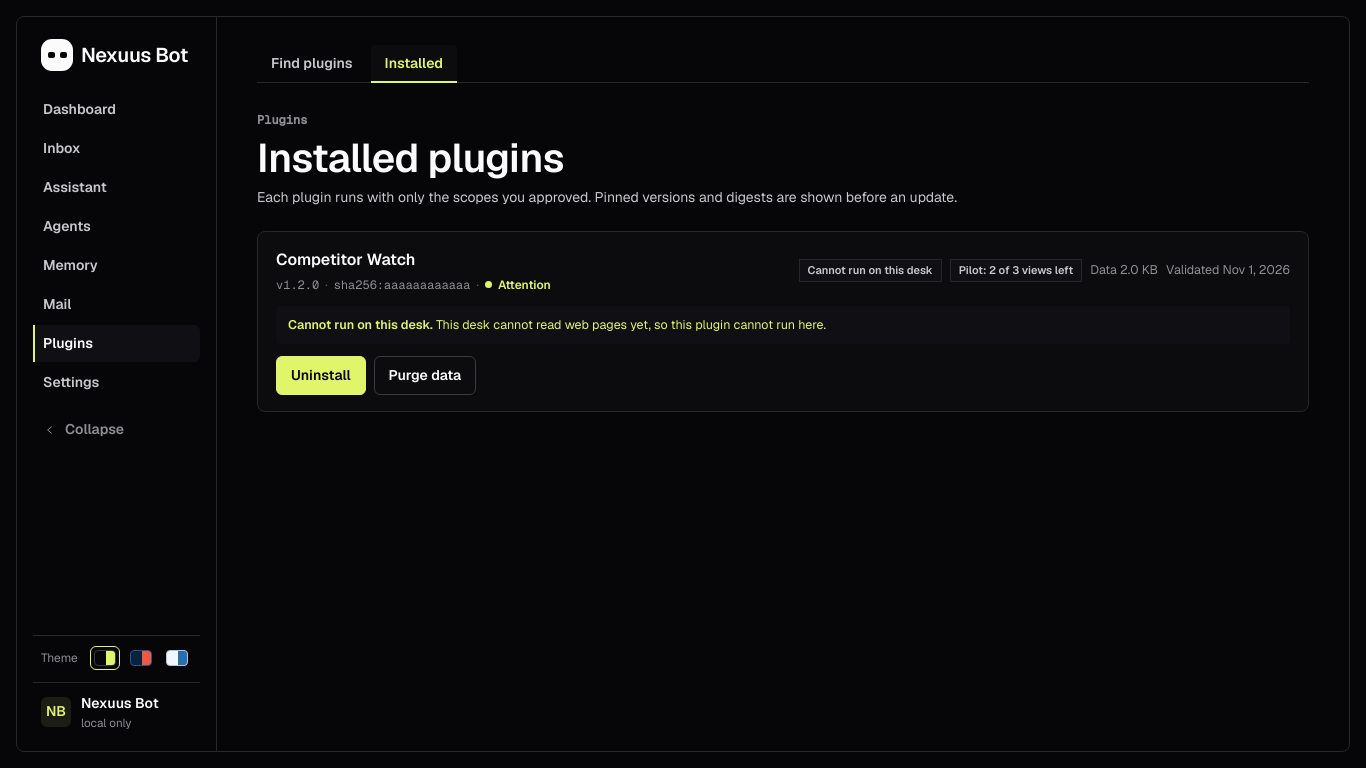
Test: an installed plugin that cannot run › shows the state with Uninstall as the primary action and no Re-test
This screenshot has width=1366, height=768.
Expected: the heading "Competitor Watch" is shown, [276,249,415,270]
Expected: the text "Cannot run on this desk" is shown, [798,259,942,282]
Step 1. Click the button "Purge data" → (425,376), box [374,356,476,395]
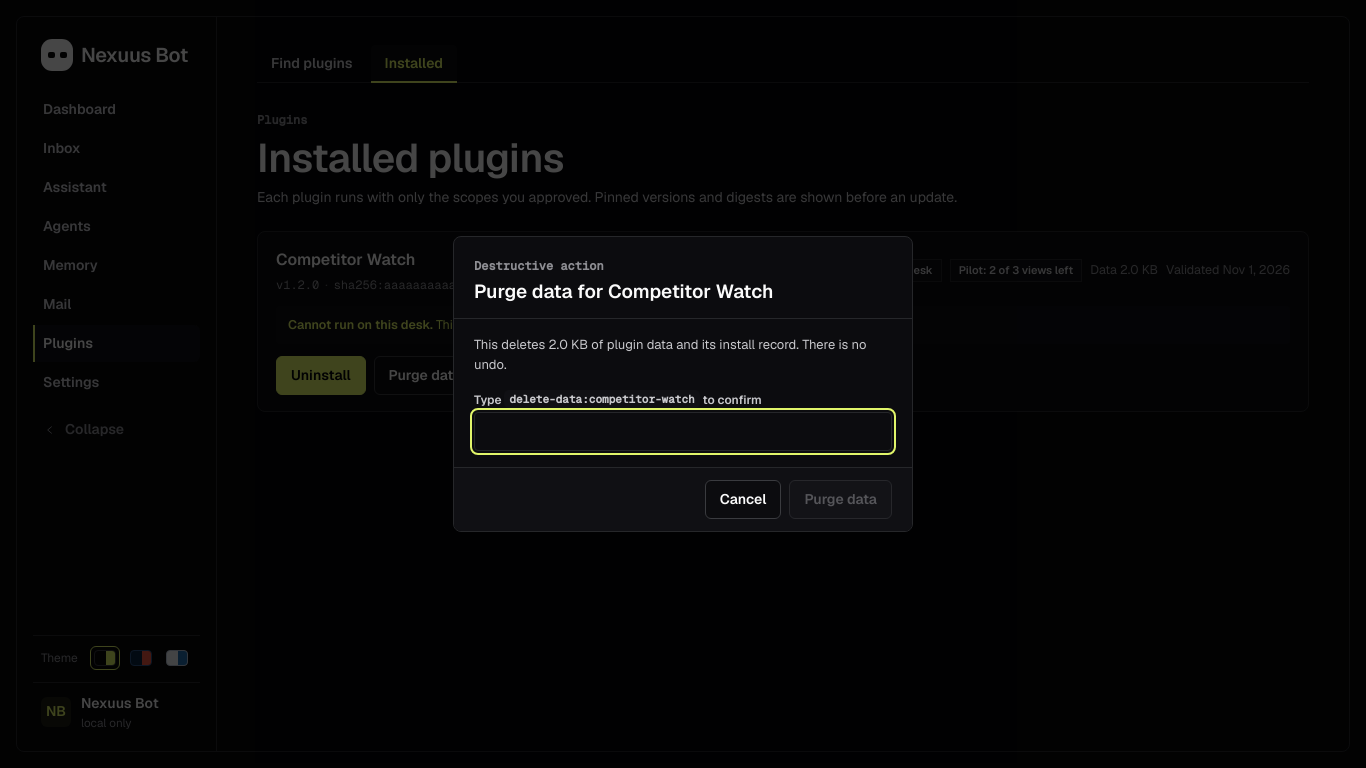
Expected: the button "Purge data" is disabled, [789,480,892,519]
Step 2. Click the button "Cancel" → (743,500), box [705,480,781,519]
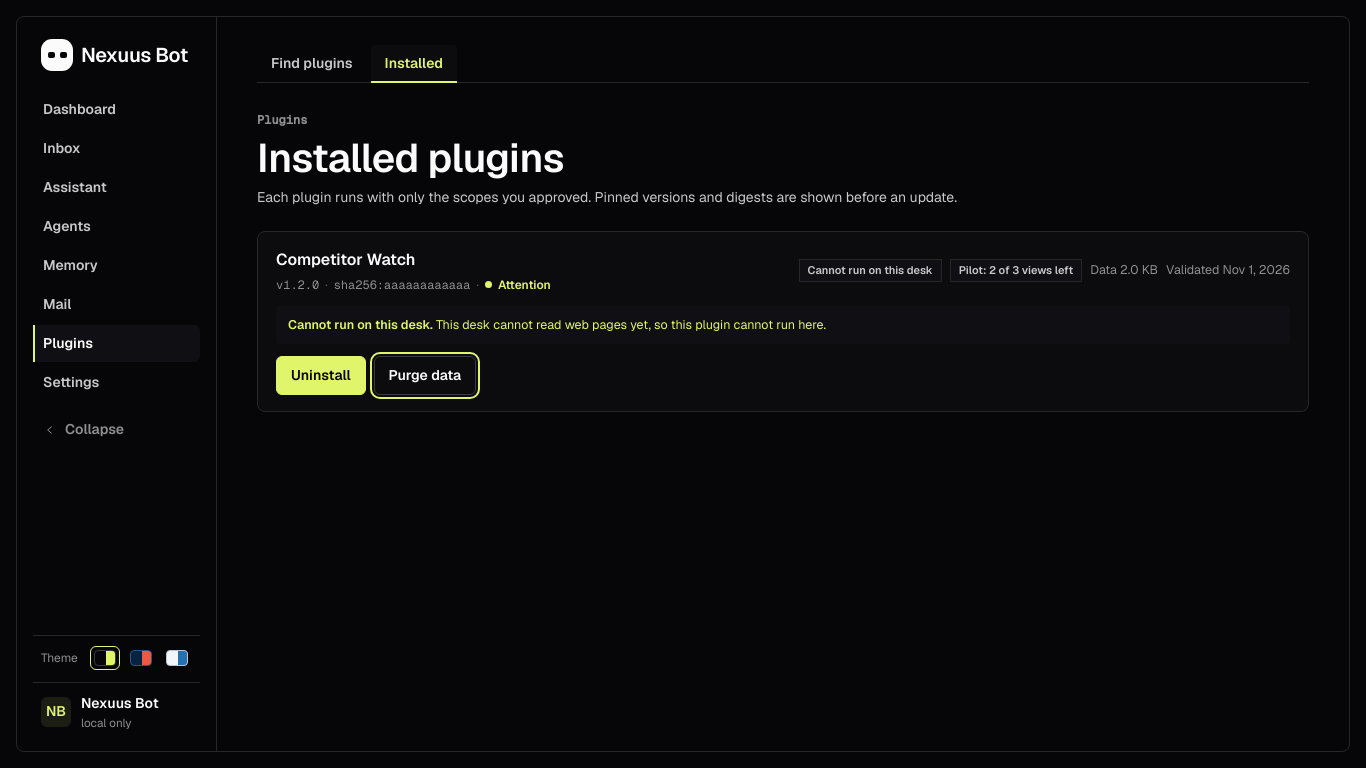
Step 3. Click the button "Uninstall" → (321,376), box [276,356,366,395]
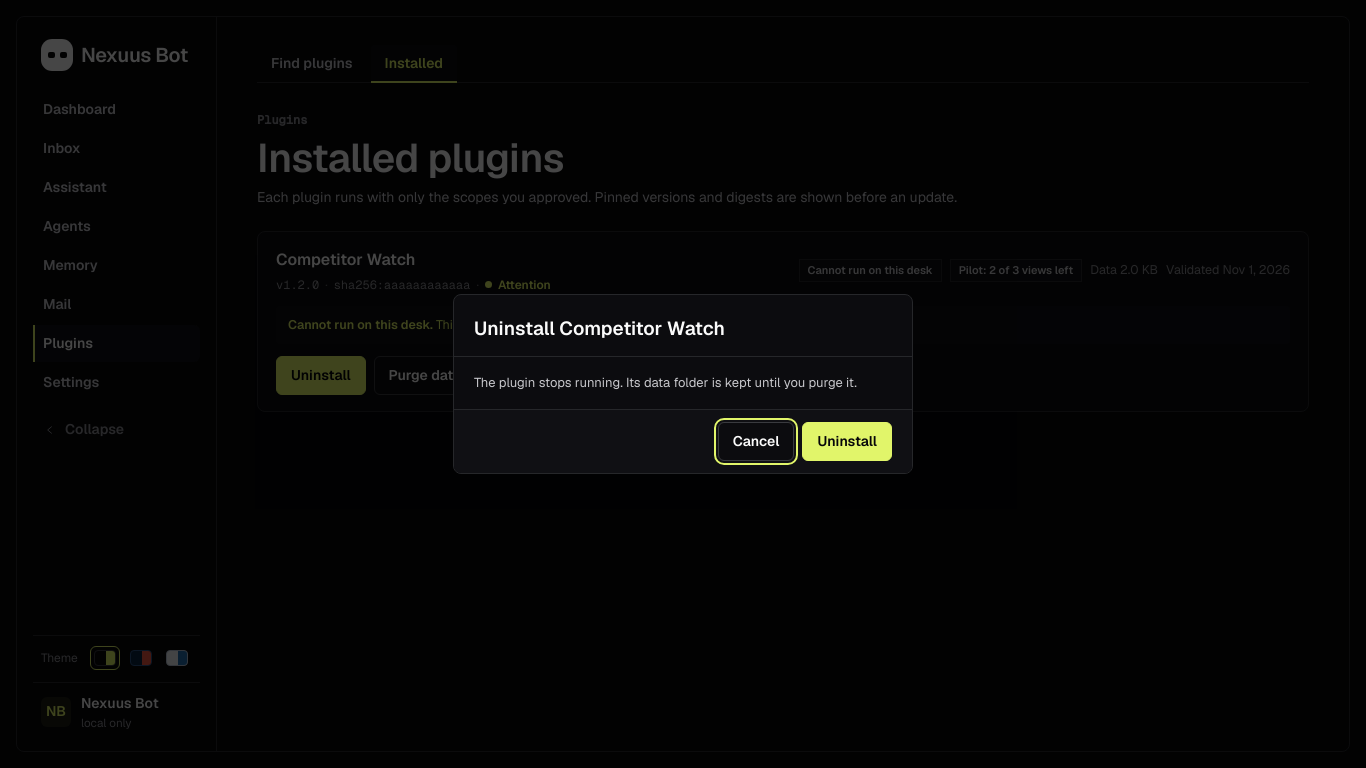
Expected: the dialog "Uninstall Competitor Watch" is shown, [453,294,913,474]
